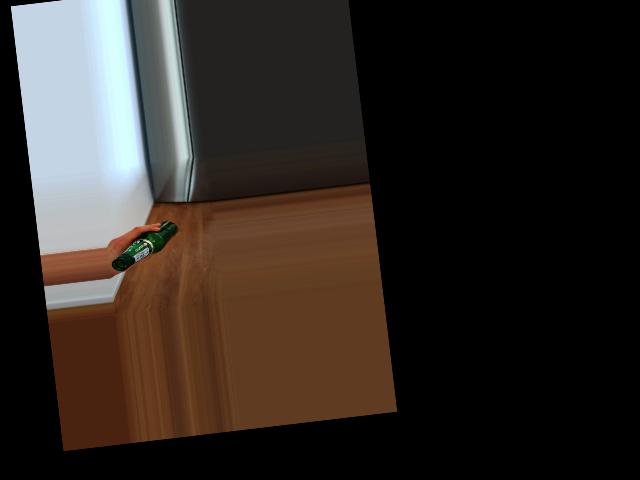beer: (107, 220, 181, 272)
